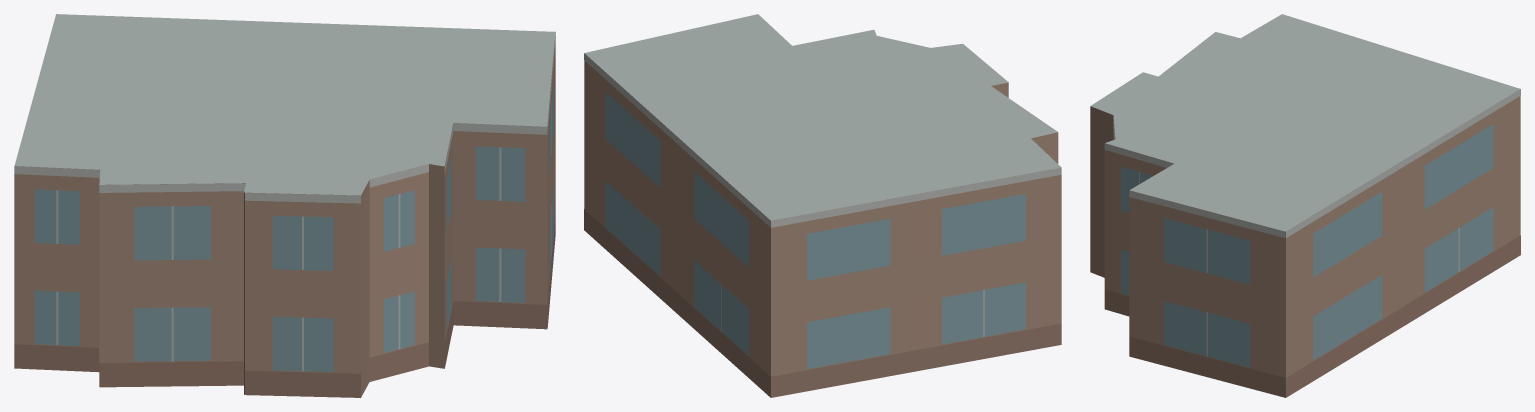
File: survey-upis-32932114.glb
3 views of the same model, side by side, from view 1: azimuth 30°, elevation 25°; view 2: azimuth 150°, elevation 25°; view 3: azimuth 270°, elevation 25° (orthographic). The views are drawn at different scales.
Visible parts, largest first — view 1: survey-upis-32932114.tmp; view 2: survey-upis-32932114.tmp; view 3: survey-upis-32932114.tmp.
Part boxes in pixels (x1=…): survey-upis-32932114.tmp: x1=14, y1=14, x2=555, y2=397; survey-upis-32932114.tmp: x1=584, y1=14, x2=1061, y2=397; survey-upis-32932114.tmp: x1=1090, y1=14, x2=1520, y2=397.
Size of the model in its own units: 17.15 by 6.1 by 14.33.
